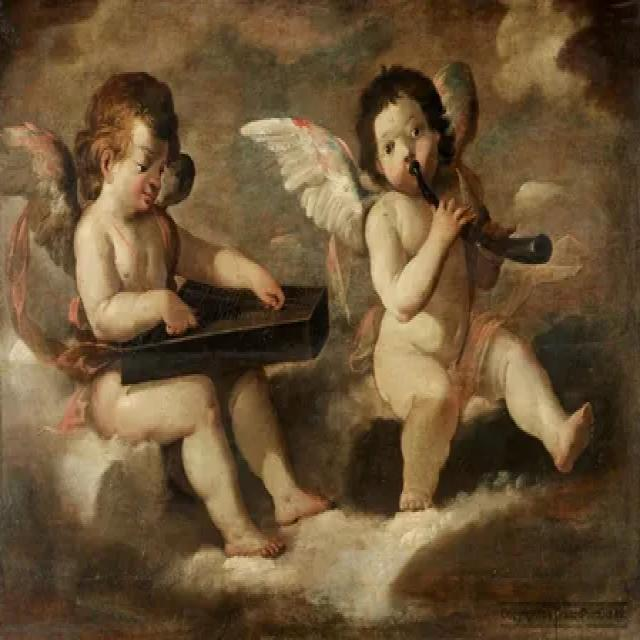angel: (0, 65, 335, 562)
